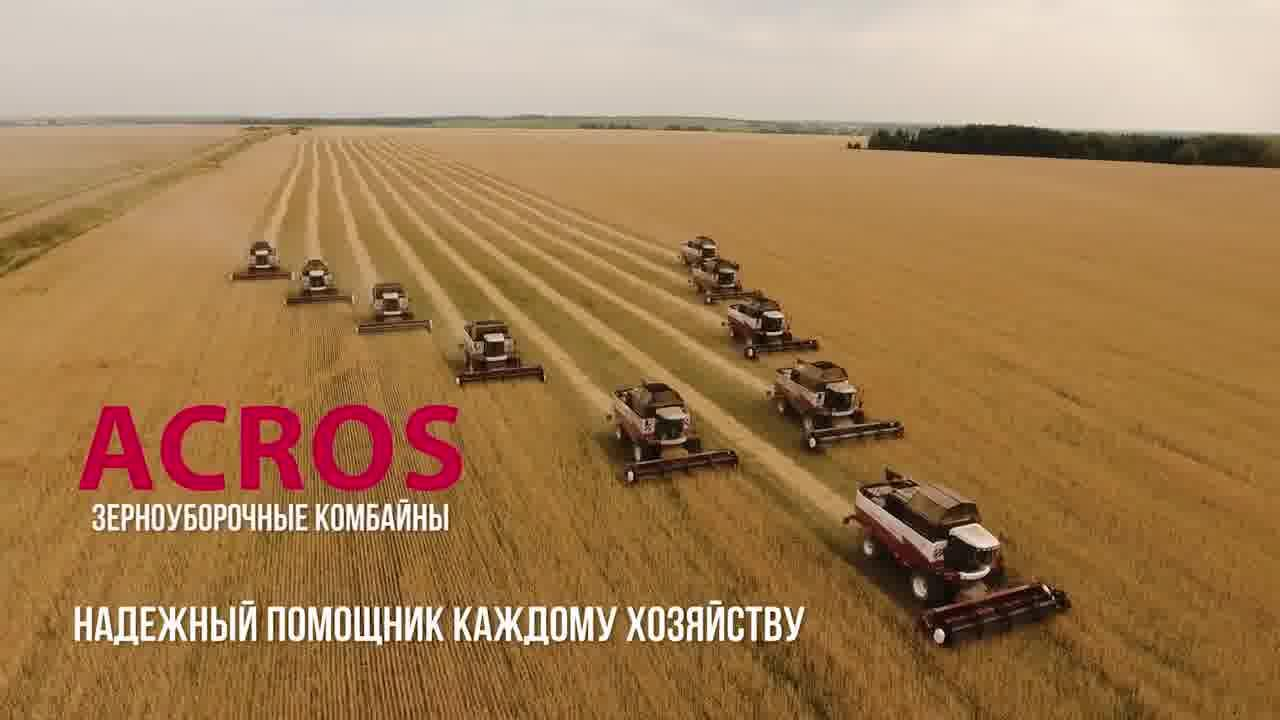combine harvester: (842, 466, 1067, 646), (605, 377, 748, 492), (766, 355, 914, 459), (453, 316, 550, 390), (718, 299, 825, 358), (355, 281, 442, 340), (280, 256, 362, 310), (690, 260, 771, 303), (230, 238, 297, 287), (677, 230, 730, 267)
